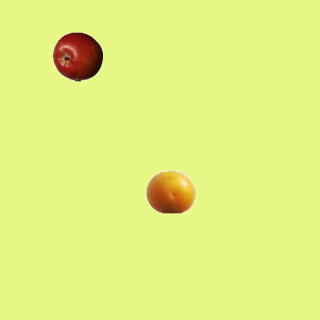Apple Braeburn: (52, 31, 102, 81)
Cherry Wax Yellow: (145, 166, 195, 216)
